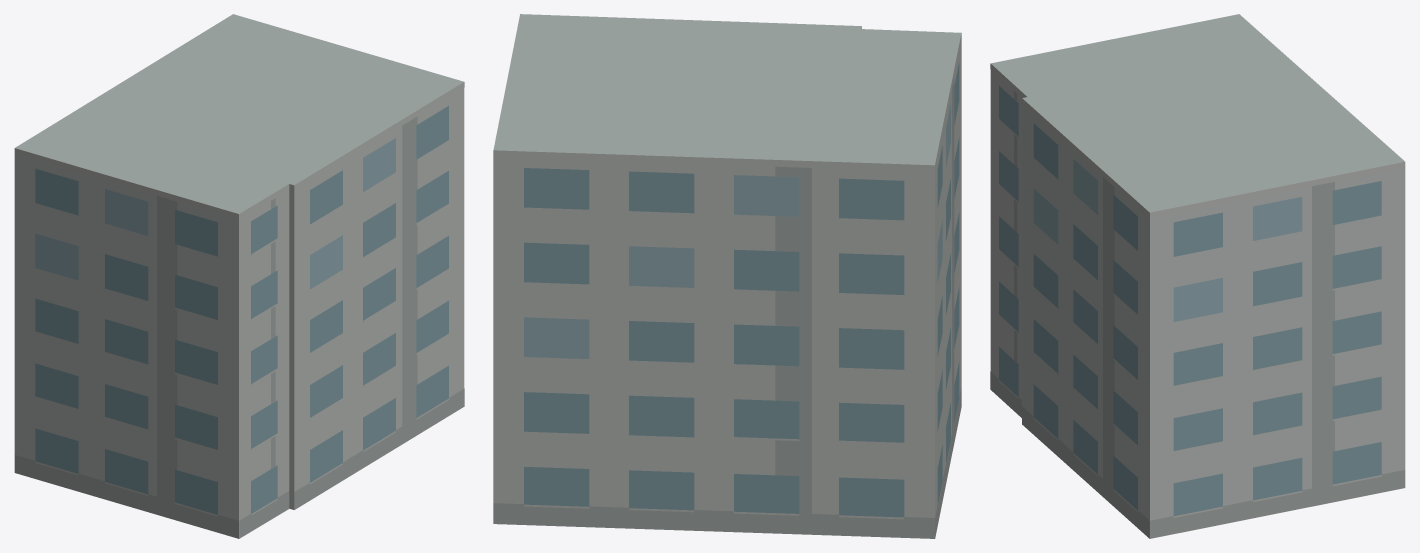
The model's file is survey-upis-32703116.glb.
3 views of the same model, side by side, from view 1: azimuth 30°, elevation 25°; view 2: azimuth 150°, elevation 25°; view 3: azimuth 270°, elevation 25° (orthographic). The views are drawn at different scales.
Visible parts, largest first — view 1: survey-upis-32703116.tmp; view 2: survey-upis-32703116.tmp; view 3: survey-upis-32703116.tmp.
Boxes of the visible parts, x1=… form: survey-upis-32703116.tmp: x1=14, y1=14, x2=464, y2=538; survey-upis-32703116.tmp: x1=493, y1=14, x2=961, y2=538; survey-upis-32703116.tmp: x1=990, y1=14, x2=1405, y2=538.
Size of the model in its own units: 17.44 by 13.35 by 15.39.
